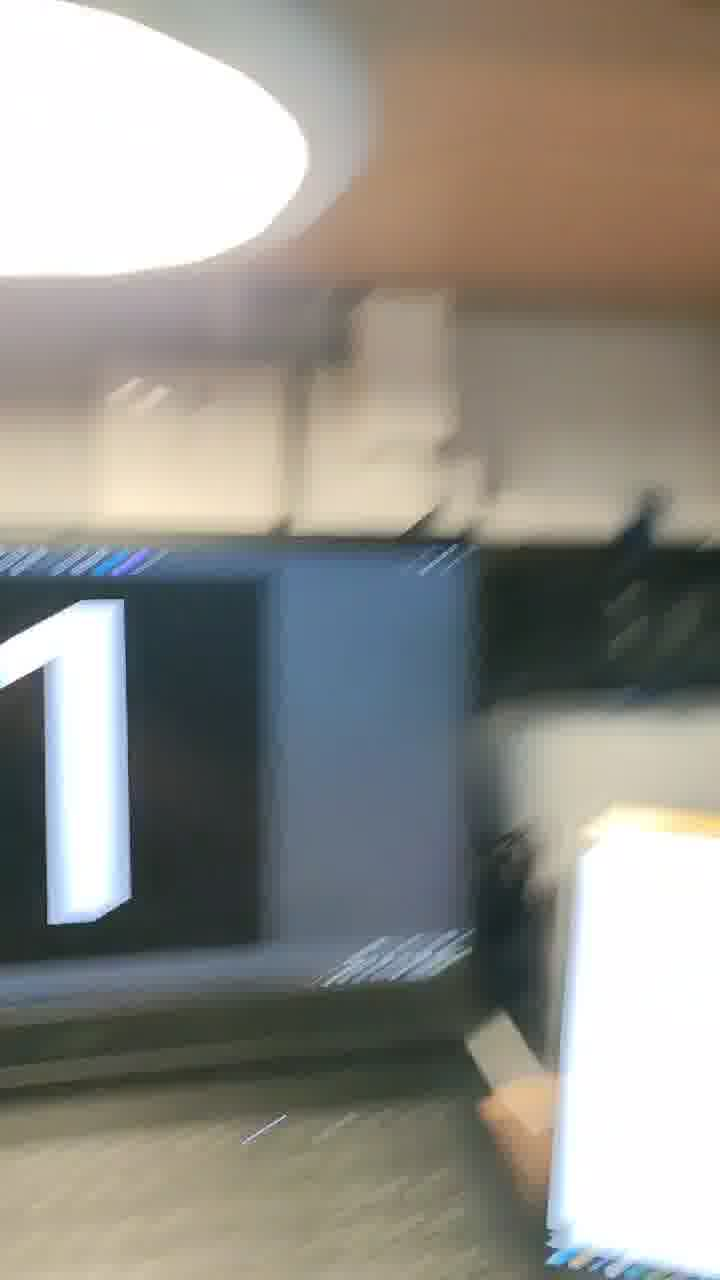one: (1, 463, 270, 907)
